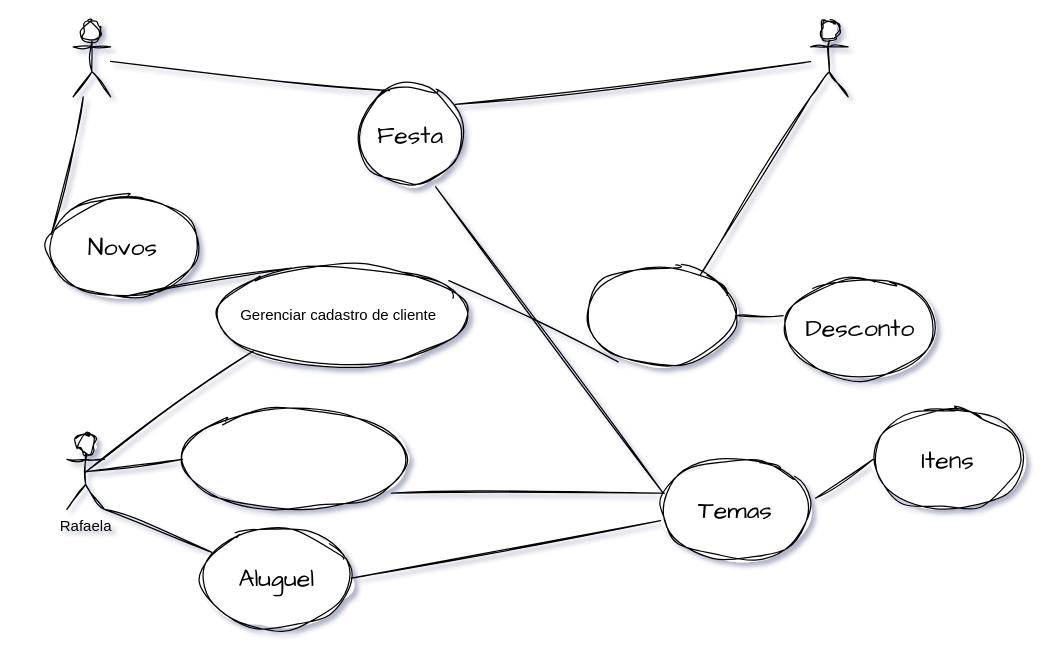
Some shapes in this 1053 by 658 pixel diagram are drawn without their labels. The shapes that lost their labels are listed below. From the top down, each one's centre as x and y in pixels, then its label:
At point 91,59: "Cliente Novo".
At point 828,59: "Cliente Antigo".
At point 660,315: "Antigos".
At point 294,458: "Gerenciar cadastro de temas".
